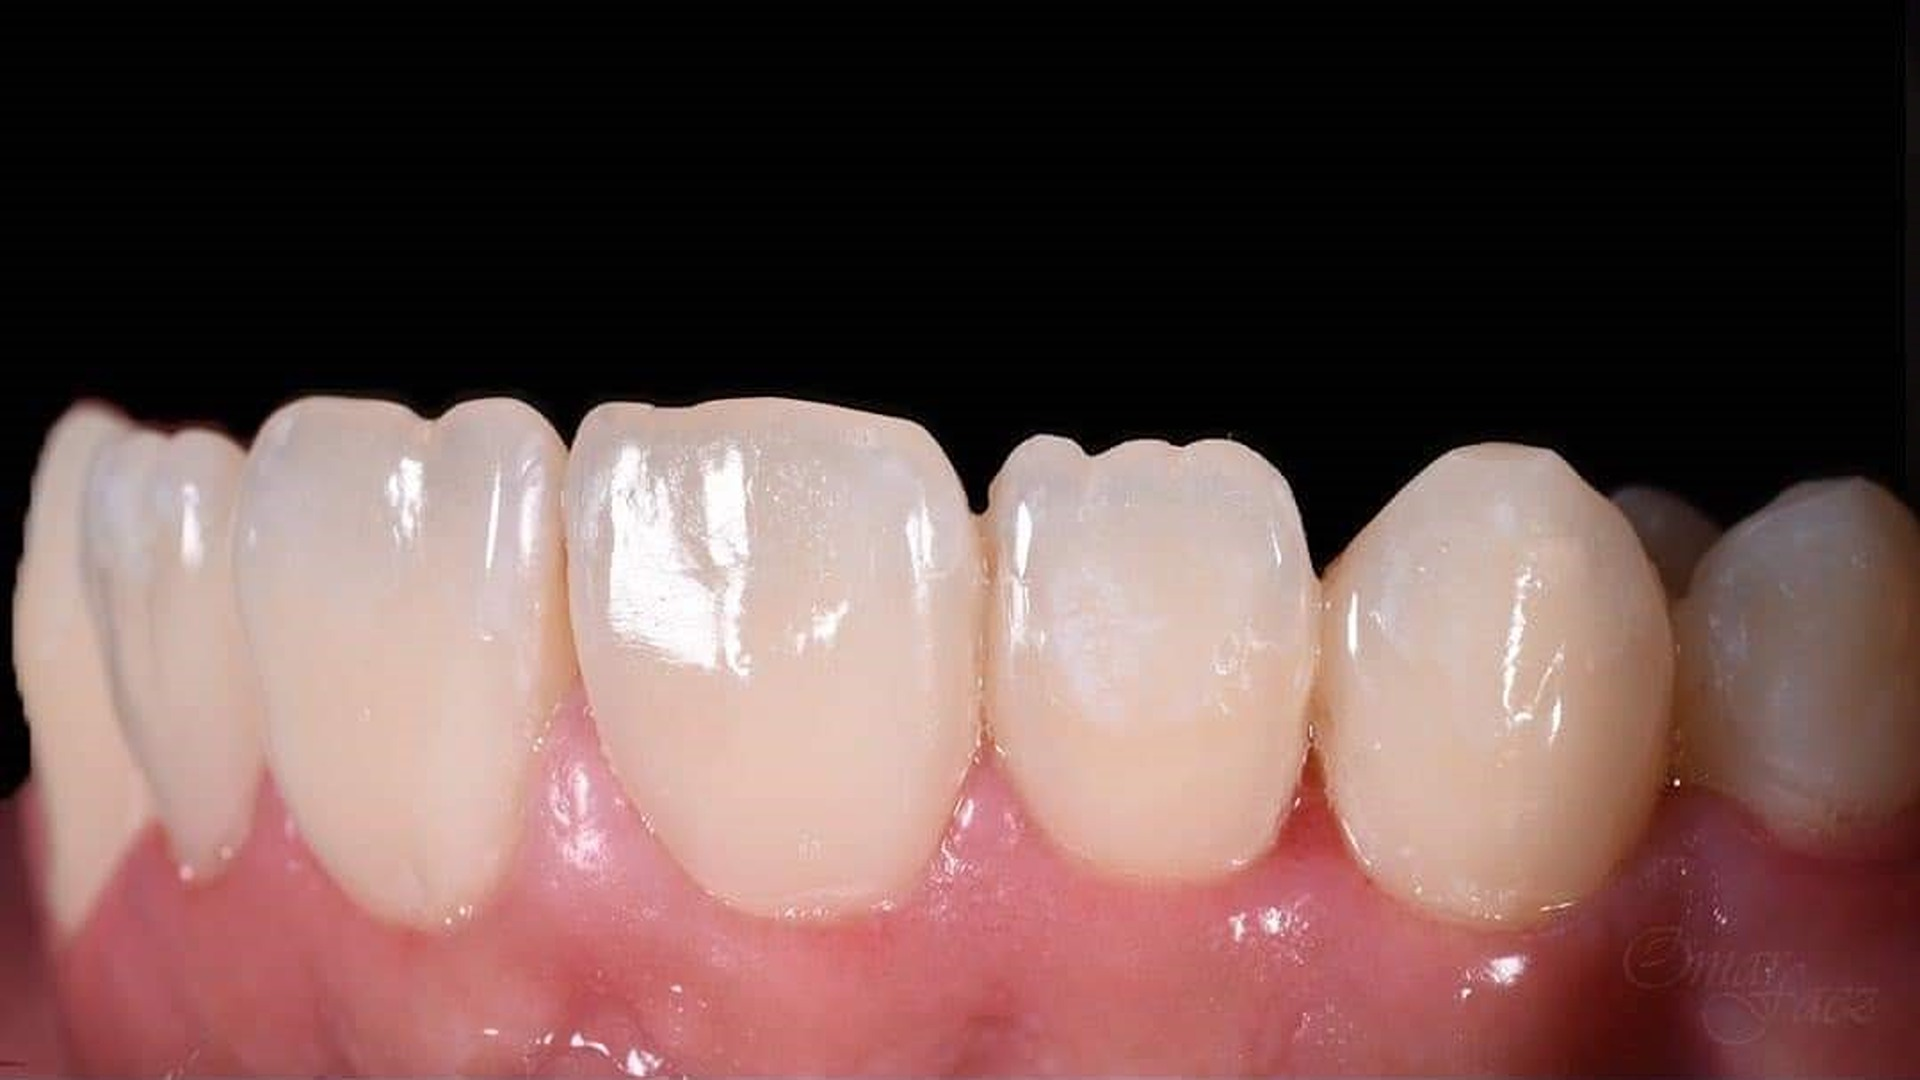tooth: (563, 397, 982, 920), (233, 396, 578, 934), (1313, 442, 1677, 932), (982, 433, 1323, 885), (1672, 476, 1917, 862), (83, 426, 266, 885), (12, 400, 154, 932)
